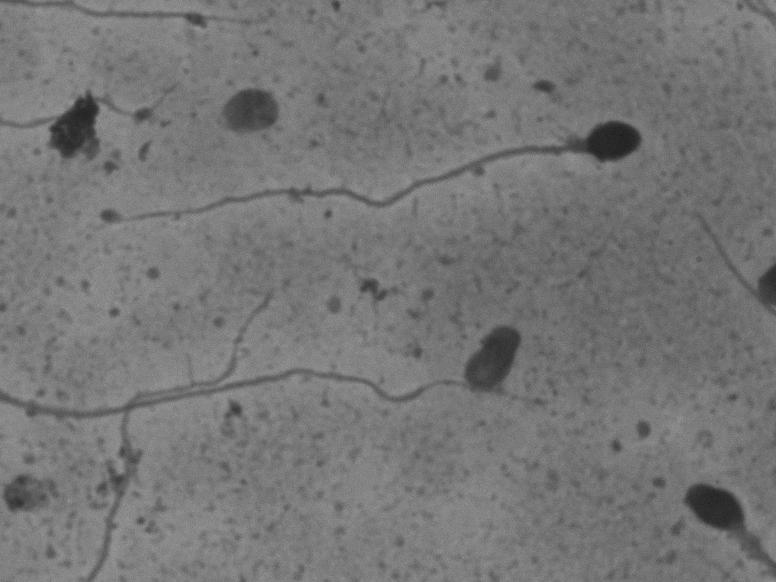Abnormal: (119, 107, 684, 240), (439, 287, 537, 422)
